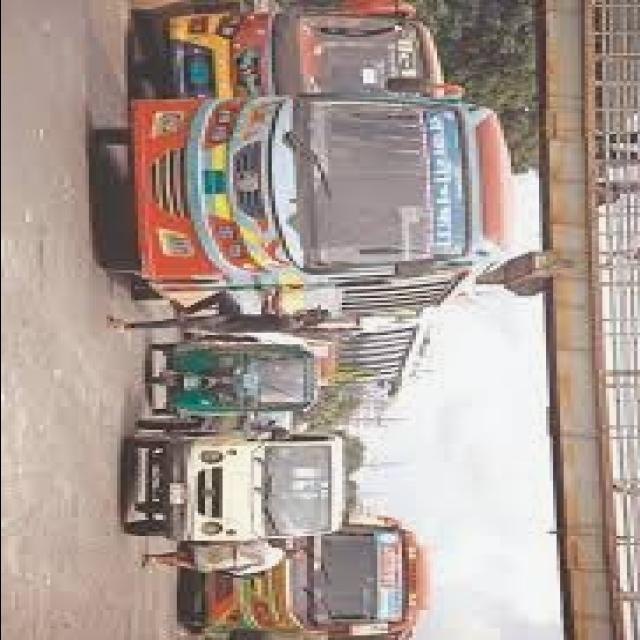bus: (132, 93, 519, 325), (187, 525, 445, 640), (212, 309, 433, 396)
